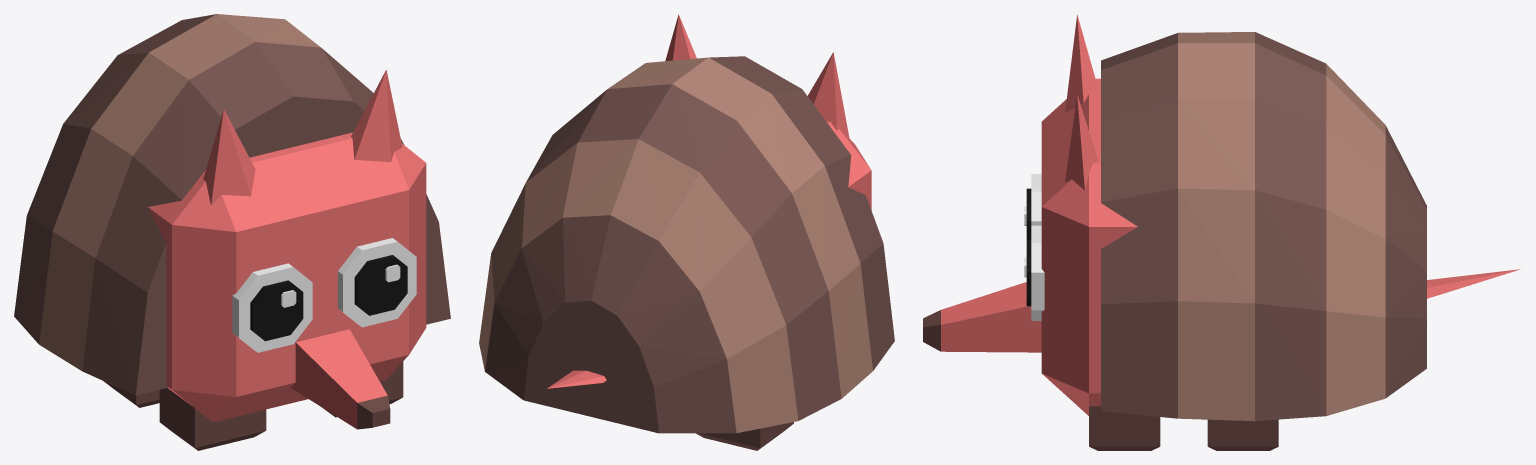
The model's file is Armadillo.fbx.
3 renders of one model, left to right at view 1: azimuth 30°, elevation 25°; view 2: azimuth 150°, elevation 25°; view 3: azimuth 270°, elevation 25°, orthographic. The views are drawn at different scales.
Parts seen in each view (by area): view 1: Armadillo_BandDark, Armadillo, Armadillo_BandLight, Armadillo_Pink, Armadillo_Eyes, Armadillo_Pupils, Armadillo_Feet, Armadillo_Tip; view 2: Armadillo_BandDark, Armadillo_BandLight, Armadillo_Pink, Armadillo_Feet, Armadillo; view 3: Armadillo_BandDark, Armadillo_BandLight, Armadillo, Armadillo_Pink, Armadillo_Feet, Armadillo_Eyes, Armadillo_Pupils, Armadillo_Tip.
Part boxes in pixels (x1,y1,x2,y2): Armadillo_BandDark: (14,14,450,395); Armadillo: (148,132,426,422); Armadillo_BandLight: (39,14,320,370); Armadillo_Pink: (203,69,402,428); Armadillo_Eyes: (232,238,416,352); Armadillo_Pupils: (250,255,407,341); Armadillo_Feet: (104,361,403,450); Armadillo_Tip: (357,395,390,429); Armadillo_BandDark: (485,56,894,433); Armadillo_BandLight: (479,57,872,432); Armadillo_Pink: (547,14,849,388); Armadillo_Feet: (696,422,793,450); Armadillo: (826,121,871,210); Armadillo_BandDark: (1101,32,1426,421); Armadillo_BandLight: (1178,32,1385,421); Armadillo: (1041,78,1137,415); Armadillo_Pink: (941,15,1521,352); Armadillo_Feet: (1089,406,1278,450); Armadillo_Eyes: (1024,174,1044,320); Armadillo_Pupils: (1026,188,1031,306); Armadillo_Tip: (923,310,940,351).
Size of the model in its own units: 2.8 by 2.68 by 4.04.
